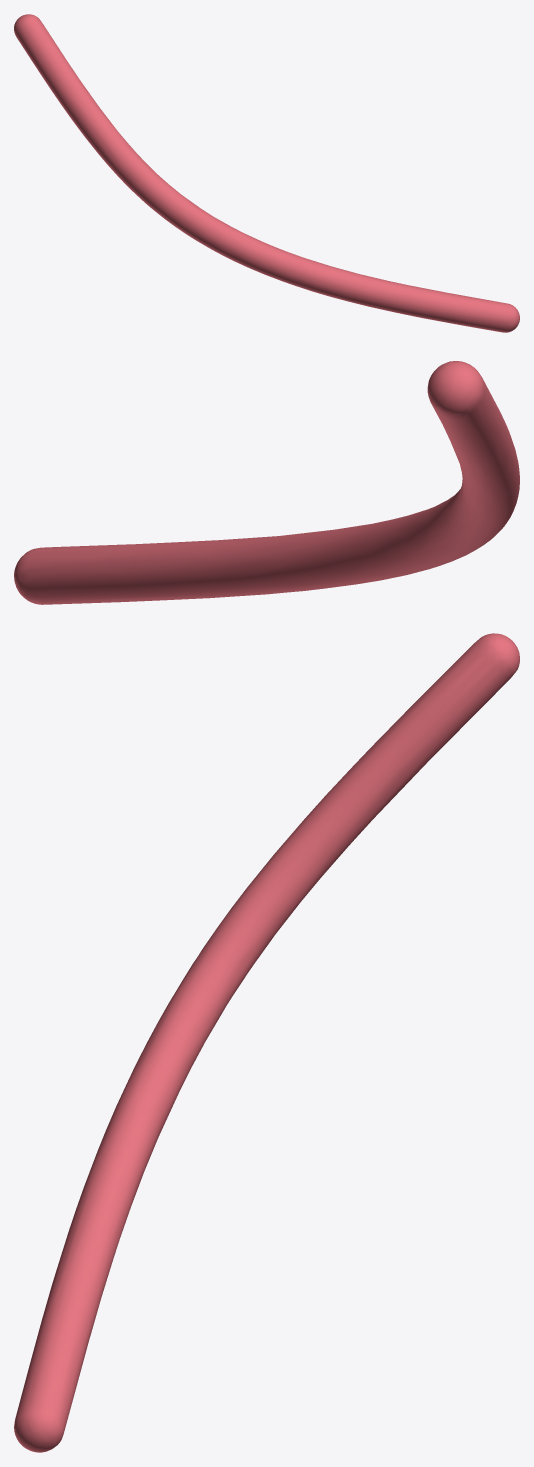
File: fma22965_fj2235.glb
The picture shows the model from 3 angles, top to bottom: view 1: azimuth 30°, elevation 25°; view 2: azimuth 150°, elevation 25°; view 3: azimuth 270°, elevation 25°; orthographic projection. The views are drawn at different scales.
Visible parts, largest first — view 1: FMA22965_FJ2235; view 2: FMA22965_FJ2235; view 3: FMA22965_FJ2235.
Part boxes in pixels (<box>): FMA22965_FJ2235: <box>14,14,519,332</box>; FMA22965_FJ2235: <box>14,361,519,604</box>; FMA22965_FJ2235: <box>14,633,519,1452</box>.
Bounding box in the file's own units: 0.0504 × 0.0395 × 0.0346.
